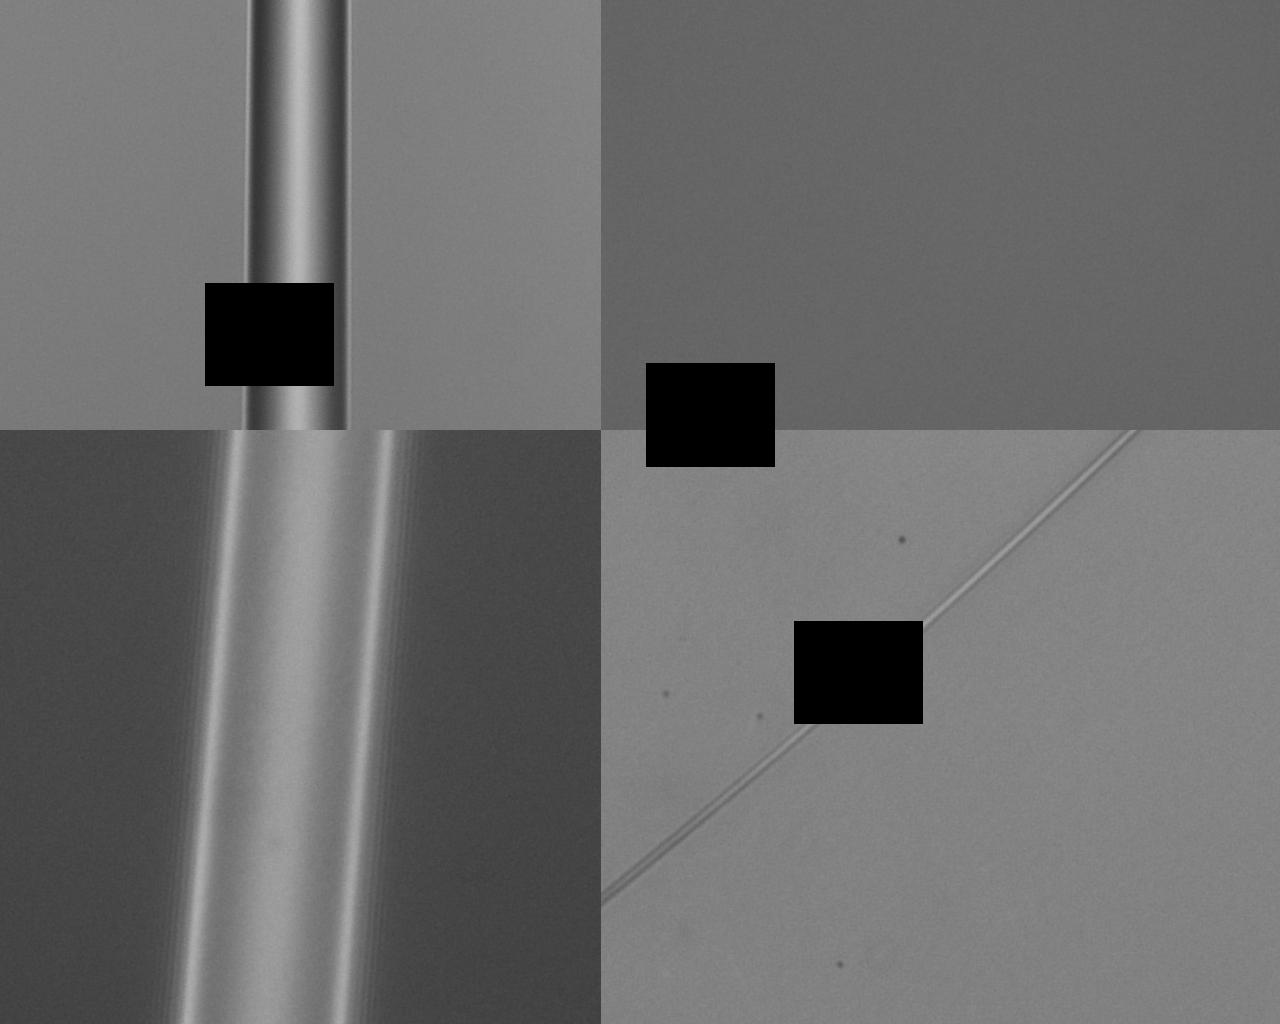fiber: (1018, 0, 1251, 532), (56, 532, 149, 1024), (755, 532, 771, 1024)
